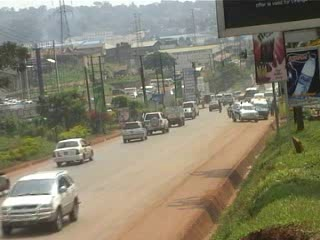Car: (1, 171, 83, 238), (50, 136, 97, 167), (118, 119, 149, 144), (141, 110, 171, 134), (238, 102, 260, 125), (205, 100, 221, 112)
Motorcycle: (226, 107, 232, 118)
